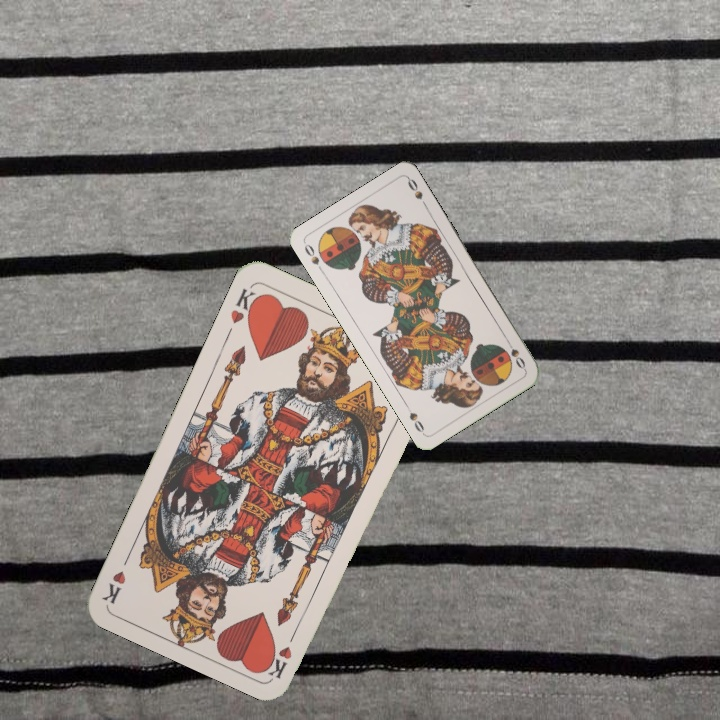HK: (223, 284, 263, 338), (266, 623, 301, 680)
SO: (502, 335, 528, 372), (300, 240, 322, 267)
